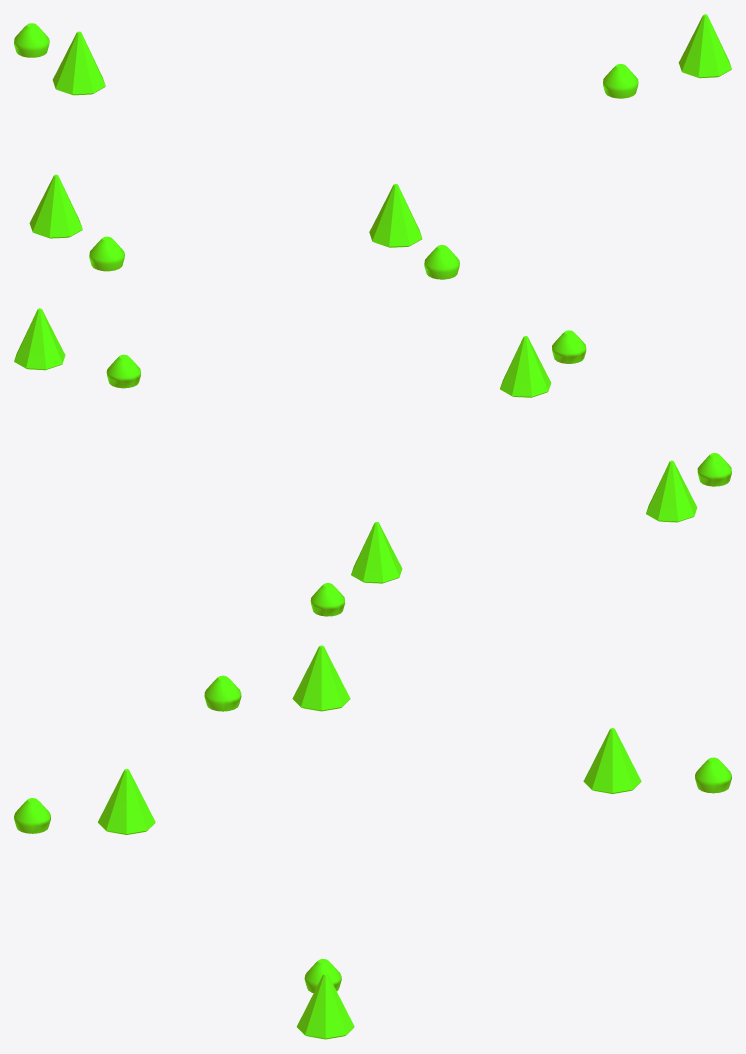
File: trees-001.fbx
3 renders of one model, top to bottom at view 1: azimuth 30°, elevation 25°; view 2: azimuth 150°, elevation 25°; view 3: azimuth 270°, elevation 25°, orthographic. The views are drawn at different scales.
Parts seen in each view (by area): view 1: taper_2, taper_4, taper_6, taper_8, taper, taper_3, taper_5, taper_7; view 2: taper_2, taper_6, taper_8, taper_4, taper_7, taper, taper_3, taper_5; view 3: taper_2, taper_6, taper_8, taper_4, taper_3, taper_7, taper, taper_5.
Part boxes in pixels (x1=…): taper_2: x1=52, y1=31, x2=105, y2=95; taper_4: x1=29, y1=174, x2=82, y2=238; taper_6: x1=678, y1=14, x2=731, y2=78; taper_8: x1=369, y1=184, x2=422, y2=247; taper: x1=14, y1=23, x2=49, y2=57; taper_3: x1=89, y1=236, x2=124, y2=271; taper_5: x1=603, y1=64, x2=638, y2=98; taper_7: x1=424, y1=245, x2=459, y2=279; taper_2: x1=351, y1=522, x2=402, y2=583; taper_6: x1=14, y1=308, x2=65, y2=370; taper_8: x1=500, y1=336, x2=551, y2=397; taper_4: x1=646, y1=460, x2=697, y2=522; taper_7: x1=552, y1=330, x2=586, y2=363; taper: x1=310, y1=583, x2=345, y2=616; taper_3: x1=697, y1=453, x2=731, y2=486; taper_5: x1=106, y1=354, x2=140, y2=388; taper_2: x1=583, y1=728, x2=641, y2=793; taper_6: x1=296, y1=973, x2=354, y2=1039; taper_8: x1=97, y1=769, x2=155, y2=834; taper_4: x1=292, y1=645, x2=350, y2=711; taper_3: x1=204, y1=675, x2=241, y2=711; taper_7: x1=14, y1=798, x2=50, y2=833; taper: x1=695, y1=757, x2=731, y2=793; taper_5: x1=304, y1=959, x2=341, y2=992.
Bounding box in the file's own units: 705 × 52.98 × 608.
